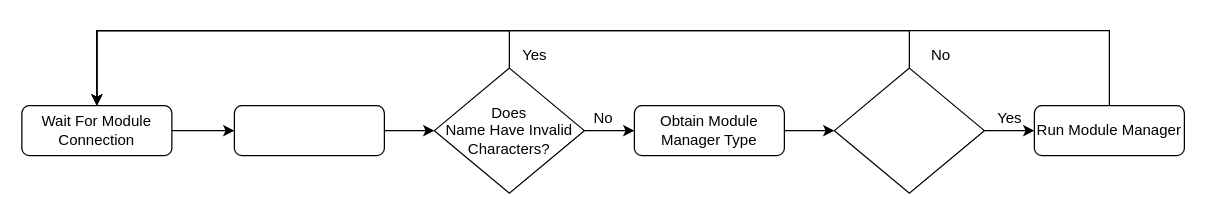
Image size: 1206x215. Some labels were removed from this diagram. The centre of each missing label's shape, as x and y in pixels:
"Is The Type Valid?" goes at [908,130].
"Probe Module For Name" goes at [308,130].
